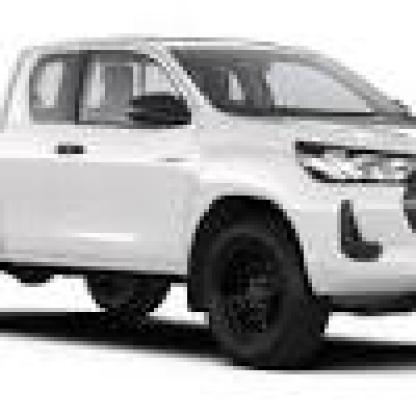light_vehicle: (0, 21, 412, 383)
